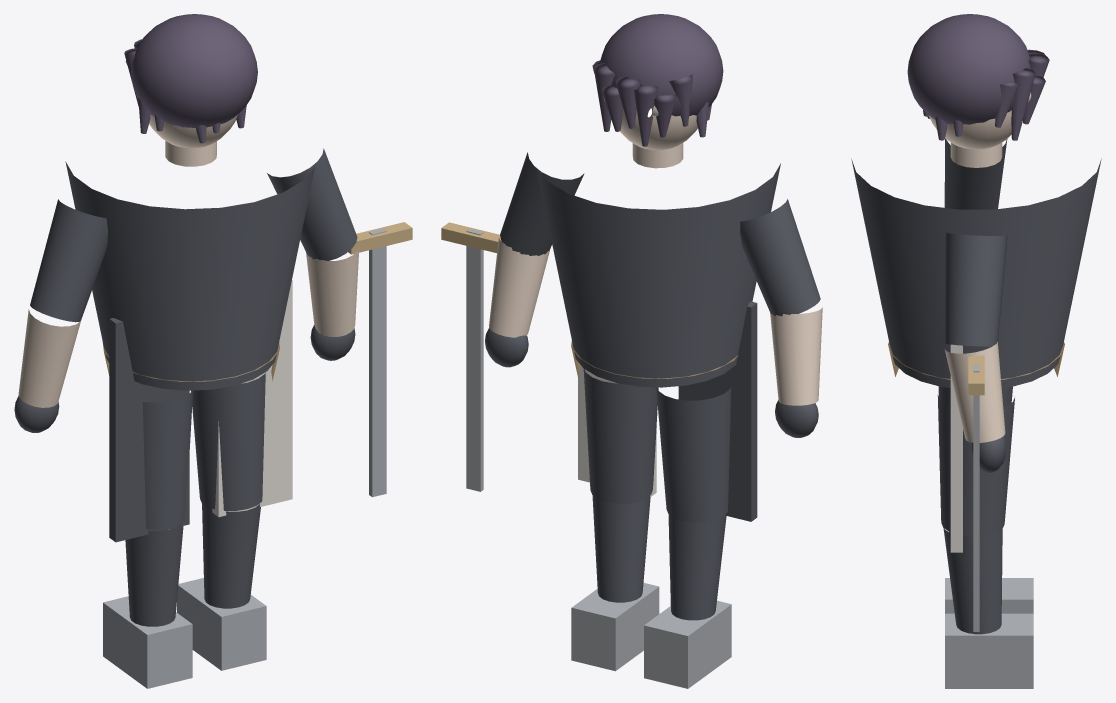
Rendered from lucas-procedural-v1.glb.
3 renders of one model, left to right at view 1: azimuth 30°, elevation 25°; view 2: azimuth 150°, elevation 25°; view 3: azimuth 270°, elevation 25°, orthographic. The views are drawn at different scales.
Parts seen in each view (by area): view 1: Outfit_Torso, Hair_Cap, Body_Thigh_R, Outfit_CoatTail_L, Body_UpperArm_L, Body_Thigh_L, Outfit_Boot_L, Outfit_CoatTail_R, Outfit_Boot_R, Body_Shin_R, Body_Shin_L, Weapon_SwordBlade (+8 smaller); view 2: Outfit_Torso, Body_Thigh_L, Body_Thigh_R, Hair_Cap, Outfit_CoatTail_L, Body_UpperArm_L, Outfit_Boot_L, Outfit_Boot_R, Body_Shin_R, Body_Shin_L, Weapon_SwordBlade, Body_Forearm_L (+14 smaller); view 3: Outfit_Torso, Hair_Cap, Body_UpperArm_R, Outfit_Boot_R, Body_Thigh_R, Body_Shin_R, Body_Forearm_R, Body_UpperArm_L, Outfit_CoatTail_R, Weapon_SwordBlade, Body_Head, Outfit_Boot_L (+8 smaller).
Part boxes in pixels (x1=…): Outfit_Torso: x1=65, y1=161, x2=314, y2=390; Hair_Cap: x1=131, y1=14, x2=257, y2=127; Body_Thigh_R: x1=191, y1=372, x2=265, y2=510; Outfit_CoatTail_L: x1=109, y1=318, x2=189, y2=542; Body_UpperArm_L: x1=30, y1=199, x2=107, y2=322; Body_Thigh_L: x1=142, y1=390, x2=192, y2=529; Outfit_Boot_L: x1=103, y1=596, x2=192, y2=688; Outfit_CoatTail_R: x1=212, y1=280, x2=292, y2=516; Outfit_Boot_R: x1=177, y1=578, x2=266, y2=670; Body_Shin_R: x1=202, y1=503, x2=260, y2=608; Body_Shin_L: x1=125, y1=523, x2=183, y2=626; Weapon_SwordBlade: x1=369, y1=228, x2=386, y2=497; Outfit_Torso: x1=536, y1=163, x2=780, y2=387; Body_Thigh_L: x1=656, y1=387, x2=731, y2=522; Body_Thigh_R: x1=583, y1=369, x2=658, y2=503; Hair_Cap: x1=600, y1=14, x2=723, y2=116; Outfit_CoatTail_L: x1=678, y1=301, x2=757, y2=521; Body_UpperArm_L: x1=740, y1=199, x2=820, y2=316; Outfit_Boot_L: x1=644, y1=600, x2=731, y2=688; Outfit_Boot_R: x1=571, y1=583, x2=659, y2=671; Body_Shin_R: x1=592, y1=495, x2=650, y2=602; Body_Shin_L: x1=668, y1=514, x2=726, y2=620; Weapon_SwordBlade: x1=466, y1=229, x2=483, y2=491; Body_Forearm_L: x1=770, y1=307, x2=822, y2=405; Outfit_Torso: x1=851, y1=158, x2=1101, y2=387; Hair_Cap: x1=907, y1=14, x2=1030, y2=124; Body_UpperArm_R: x1=944, y1=232, x2=1007, y2=346; Outfit_Boot_R: x1=945, y1=613, x2=1033, y2=688; Body_Thigh_R: x1=937, y1=395, x2=1014, y2=536; Body_Shin_R: x1=943, y1=527, x2=1002, y2=634; Body_Forearm_R: x1=945, y1=342, x2=1005, y2=442; Body_UpperArm_L: x1=944, y1=138, x2=1007, y2=209; Outfit_CoatTail_R: x1=950, y1=344, x2=962, y2=552; Weapon_SwordBlade: x1=973, y1=364, x2=979, y2=631; Body_Head: x1=928, y1=110, x2=1011, y2=149; Outfit_Boot_L: x1=945, y1=578, x2=1033, y2=613.
Bounding box in the file's own units: 1.24 × 1.98 × 0.7029.
